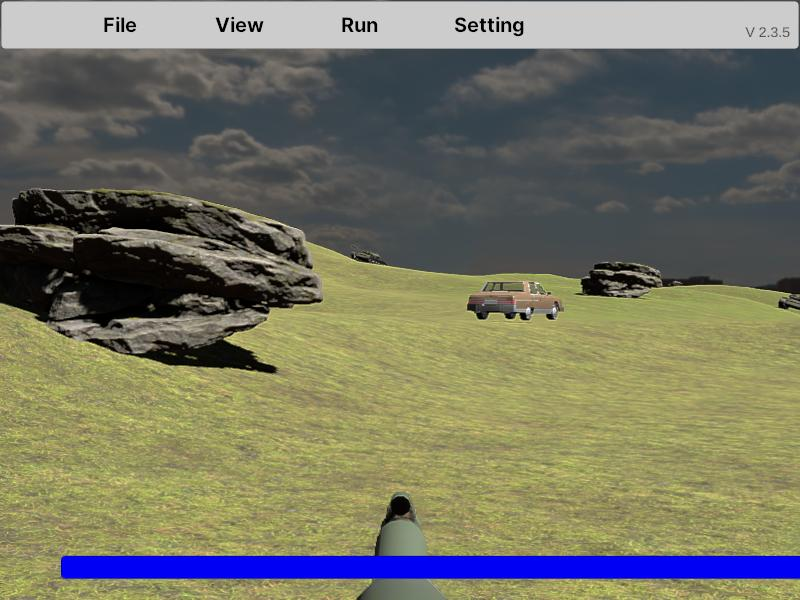car: (467, 281, 564, 321)
